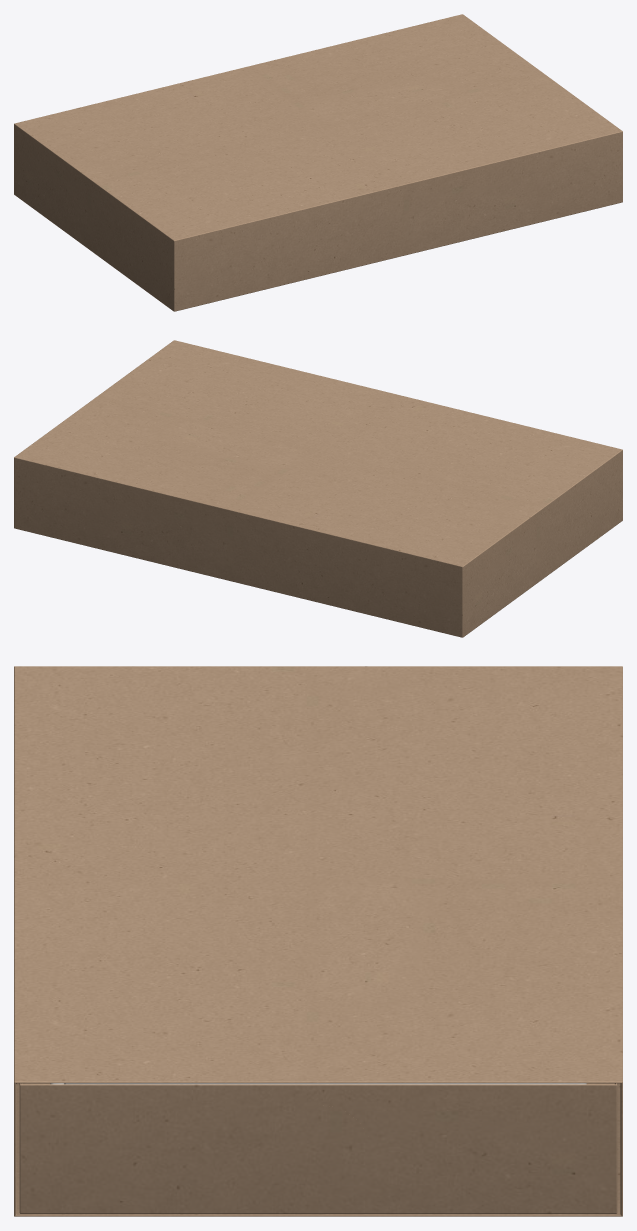
File: anim-pr15-side.glb
3 renders of one model, top to bottom at view 1: azimuth 30°, elevation 25°; view 2: azimuth 150°, elevation 25°; view 3: azimuth 270°, elevation 25°, orthographic. The views are drawn at different scales.
Parts seen in each view (by area): view 1: p15d_s; view 2: p15d_s; view 3: p15d_s, p15d_d, p15d_tab, t5_body.
Boxes of the visible parts, bbox=[...] form: p15d_s: bbox=[14, 14, 622, 311]; p15d_s: bbox=[14, 340, 622, 637]; p15d_s: bbox=[14, 666, 622, 1216]; p15d_d: bbox=[19, 1083, 617, 1213]; p15d_tab: bbox=[318, 1105, 371, 1202]; t5_body: bbox=[64, 1083, 586, 1084].
Bounding box in the file's own units: 0.211 × 0.032 × 0.1305.
2 materials, 1 textured.
